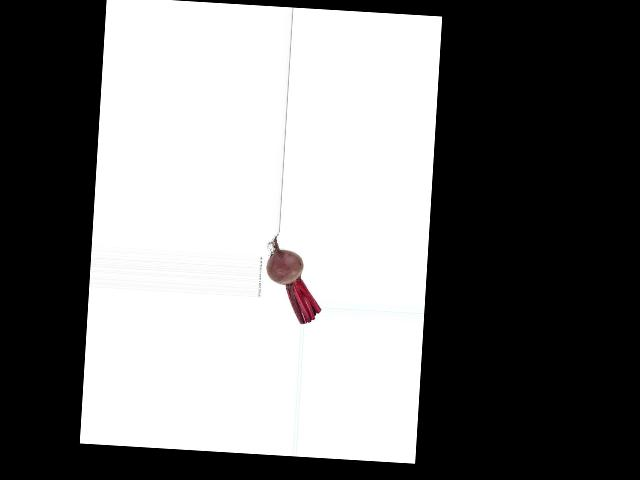beet: (263, 233, 324, 325)
